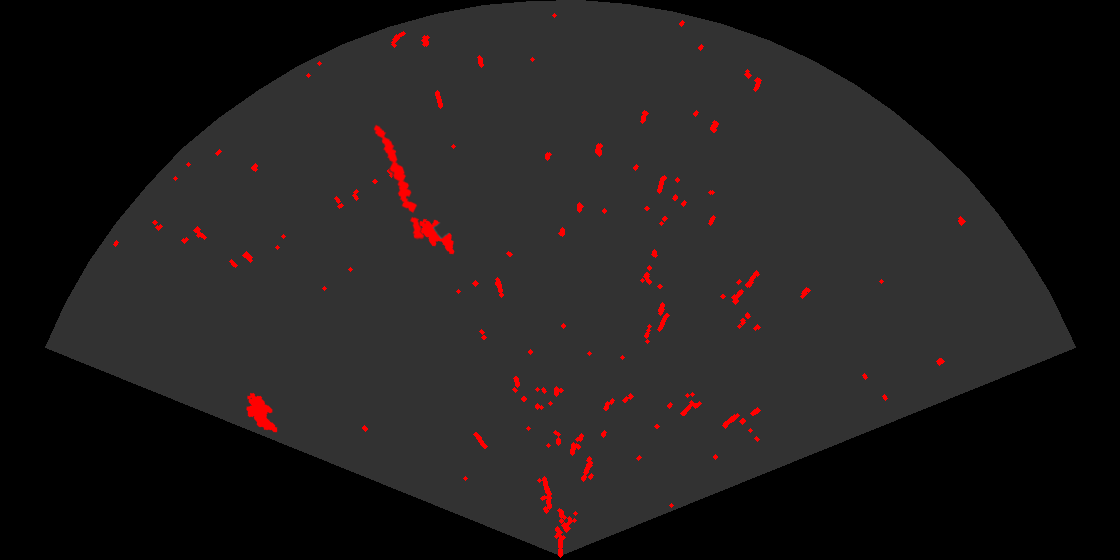AUV: (418, 217, 456, 256), (245, 391, 279, 434)
chain: (372, 123, 428, 242)
